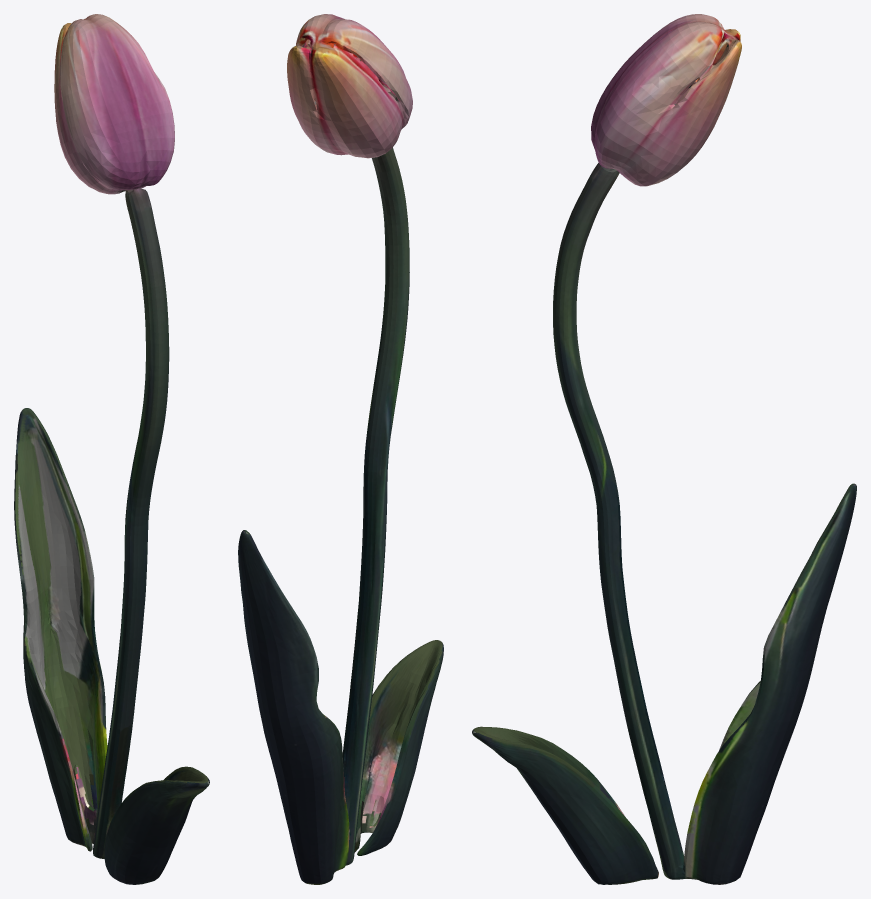
File: tripo_convert_82441c67-ce3e-4824-85d1-a435ed09d60c.obj
The picture shows the model from 3 angles, left to right: view 1: azimuth 30°, elevation 25°; view 2: azimuth 150°, elevation 25°; view 3: azimuth 270°, elevation 25°; orthographic projection. The views are drawn at different scales.
Parts seen in each view (by area): view 1: tripo_node_82441c67-ce3e-4824-85d1-a435ed09d60c; view 2: tripo_node_82441c67-ce3e-4824-85d1-a435ed09d60c; view 3: tripo_node_82441c67-ce3e-4824-85d1-a435ed09d60c.
Boxes of the visible parts, box(x1,y1,x2,y2) form: tripo_node_82441c67-ce3e-4824-85d1-a435ed09d60c: box(14, 14, 209, 884); tripo_node_82441c67-ce3e-4824-85d1-a435ed09d60c: box(238, 14, 443, 884); tripo_node_82441c67-ce3e-4824-85d1-a435ed09d60c: box(472, 14, 856, 884).
Size of the model in its own units: 0.1173 by 0.9994 by 0.4066.
1 material, 1 textured.
